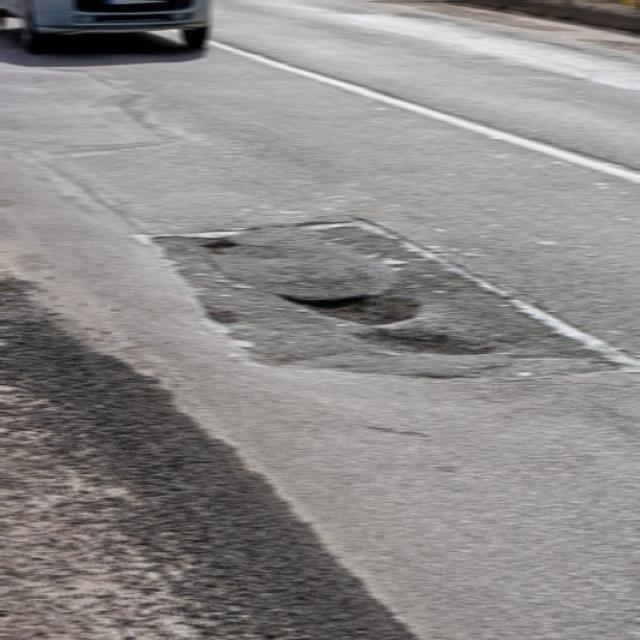Pothole: (278, 280, 526, 376), (193, 227, 249, 274)
